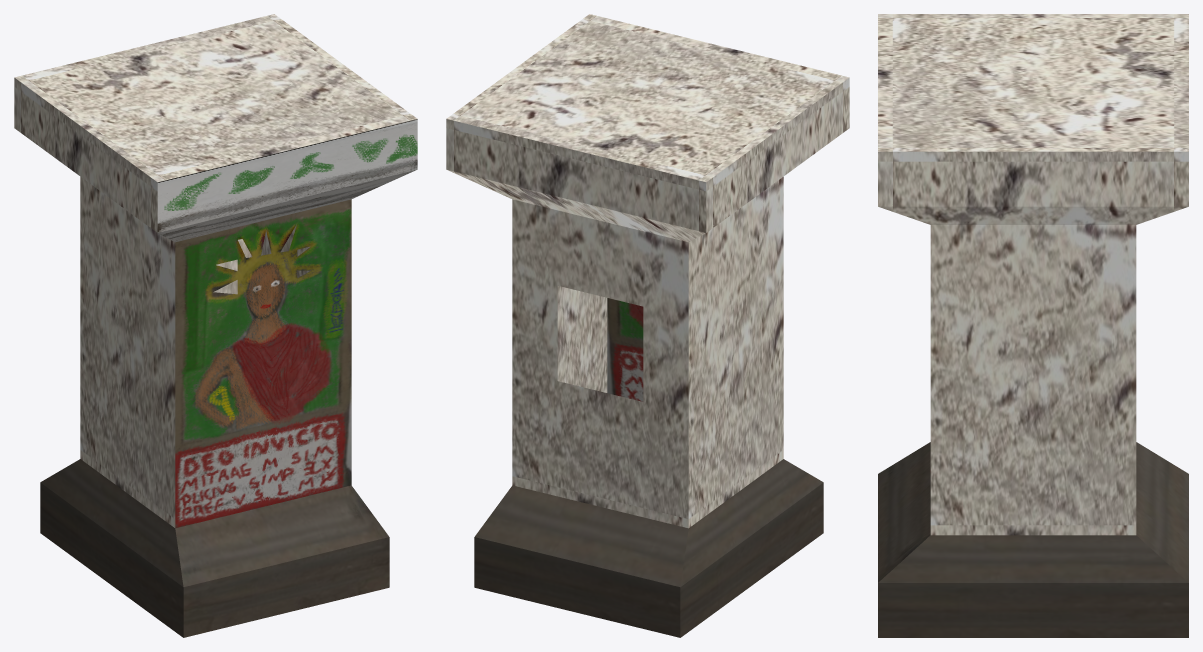
File: Altar1.FBX
3 renders of one model, left to right at view 1: azimuth 30°, elevation 25°; view 2: azimuth 150°, elevation 25°; view 3: azimuth 270°, elevation 25°, orthographic. The views are drawn at different scales.
Visible parts, largest first — view 1: Altar 002; view 2: Altar 002; view 3: Altar 002.
Boxes of the visible parts, x1,y1,x2,y2 form: Altar 002: (14,14,417,637); Altar 002: (446,14,849,637); Altar 002: (878,14,1188,637).
Bounding box in the file's own units: 21.61 × 36.67 × 20.62.
2 materials, 2 textured.
